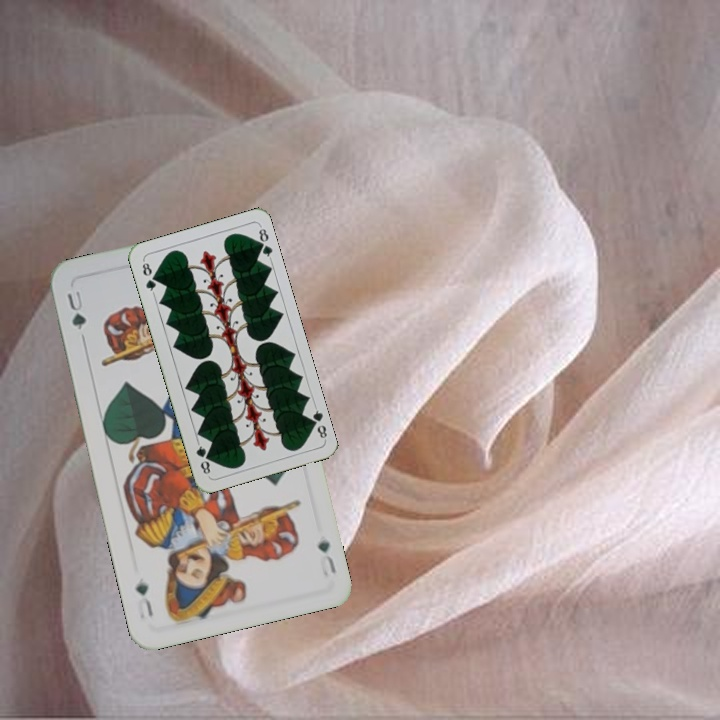G8: (305, 402, 330, 442), (138, 257, 159, 296)
GU: (63, 286, 89, 333), (313, 537, 339, 576)
